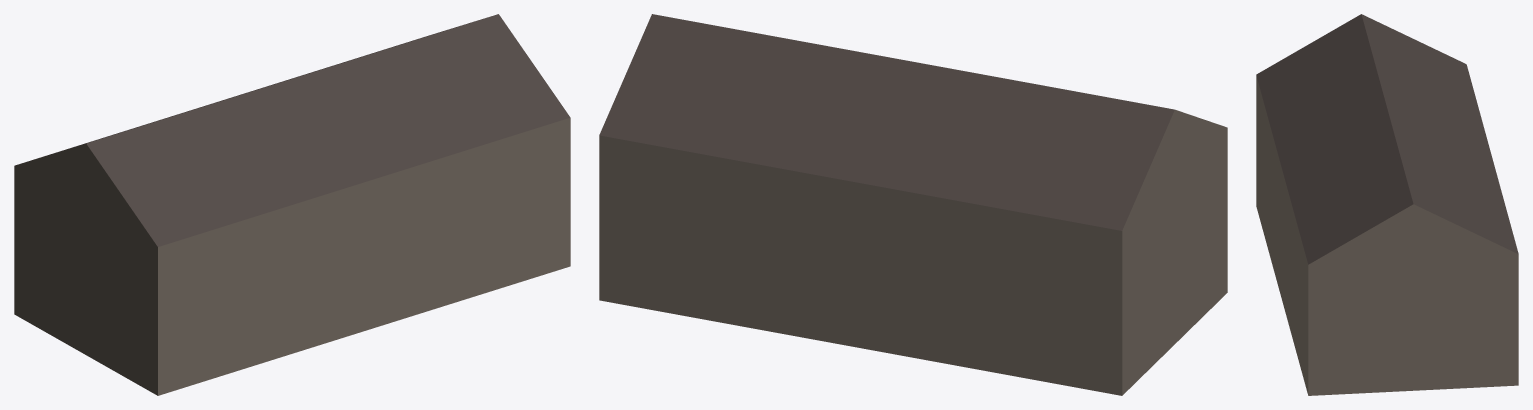
The picture shows the model from 3 angles, left to right: view 1: azimuth 30°, elevation 25°; view 2: azimuth 150°, elevation 25°; view 3: azimuth 270°, elevation 25°; orthographic projection. The views are drawn at different scales.
Visible parts, largest first — view 1: HP-w859424276; view 2: HP-w859424276; view 3: HP-w859424276.
Part boxes in pixels (x1,y1,x2,y2): HP-w859424276: [14, 14, 570, 395]; HP-w859424276: [599, 14, 1227, 395]; HP-w859424276: [1256, 14, 1518, 395].
Bounding box in the file's own units: 19.68 × 8.54 × 10.89.
